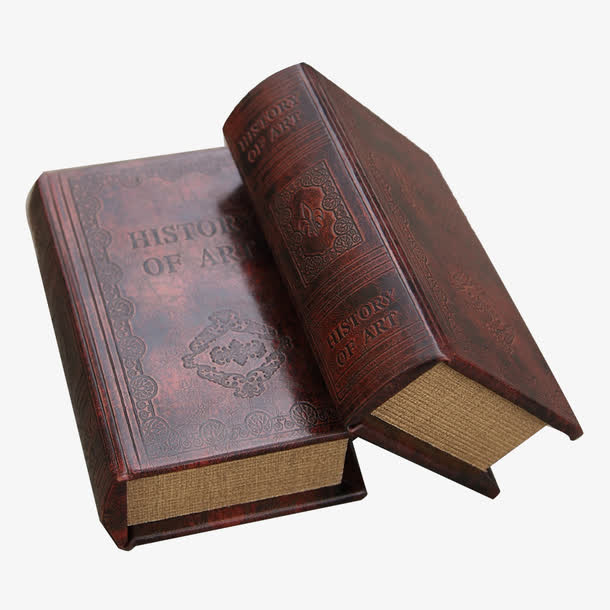book: (223, 54, 588, 503), (29, 128, 371, 554)
